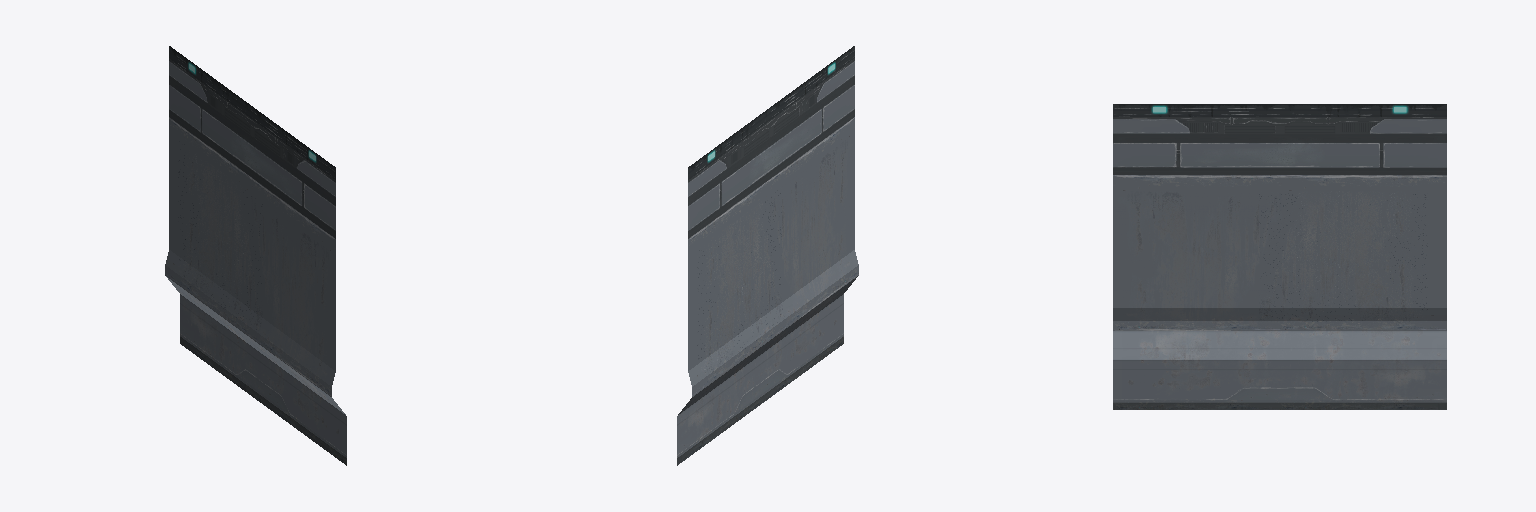
3 renders of one model, left to right at view 1: azimuth 30°, elevation 25°; view 2: azimuth 150°, elevation 25°; view 3: azimuth 270°, elevation 25°, orthographic.
Parts seen in each view (by area): view 1: Plane.011_Plane.030; view 2: Plane.011_Plane.030; view 3: Plane.011_Plane.030.
Part boxes in pixels (bbox=[...]): Plane.011_Plane.030: bbox=[165, 46, 346, 465]; Plane.011_Plane.030: bbox=[677, 46, 858, 465]; Plane.011_Plane.030: bbox=[1113, 104, 1446, 409].
Bounding box in the file's own units: 0.1329 × 2.62 × 2.63.
1 materials, 1 textured.